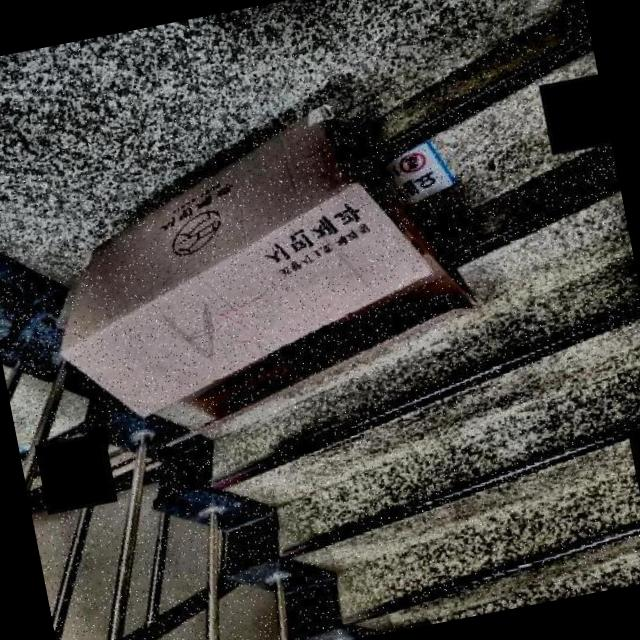box: (4, 71, 511, 474)
